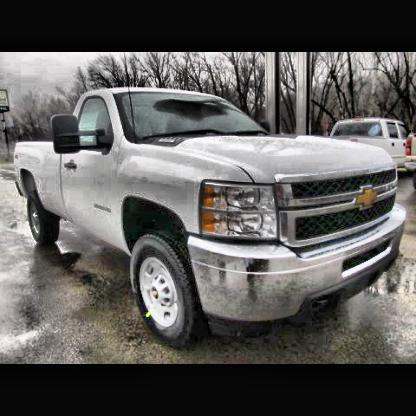Chevrolet Silverado 2500HD Regular Cab 2012: (16, 90, 407, 351)
